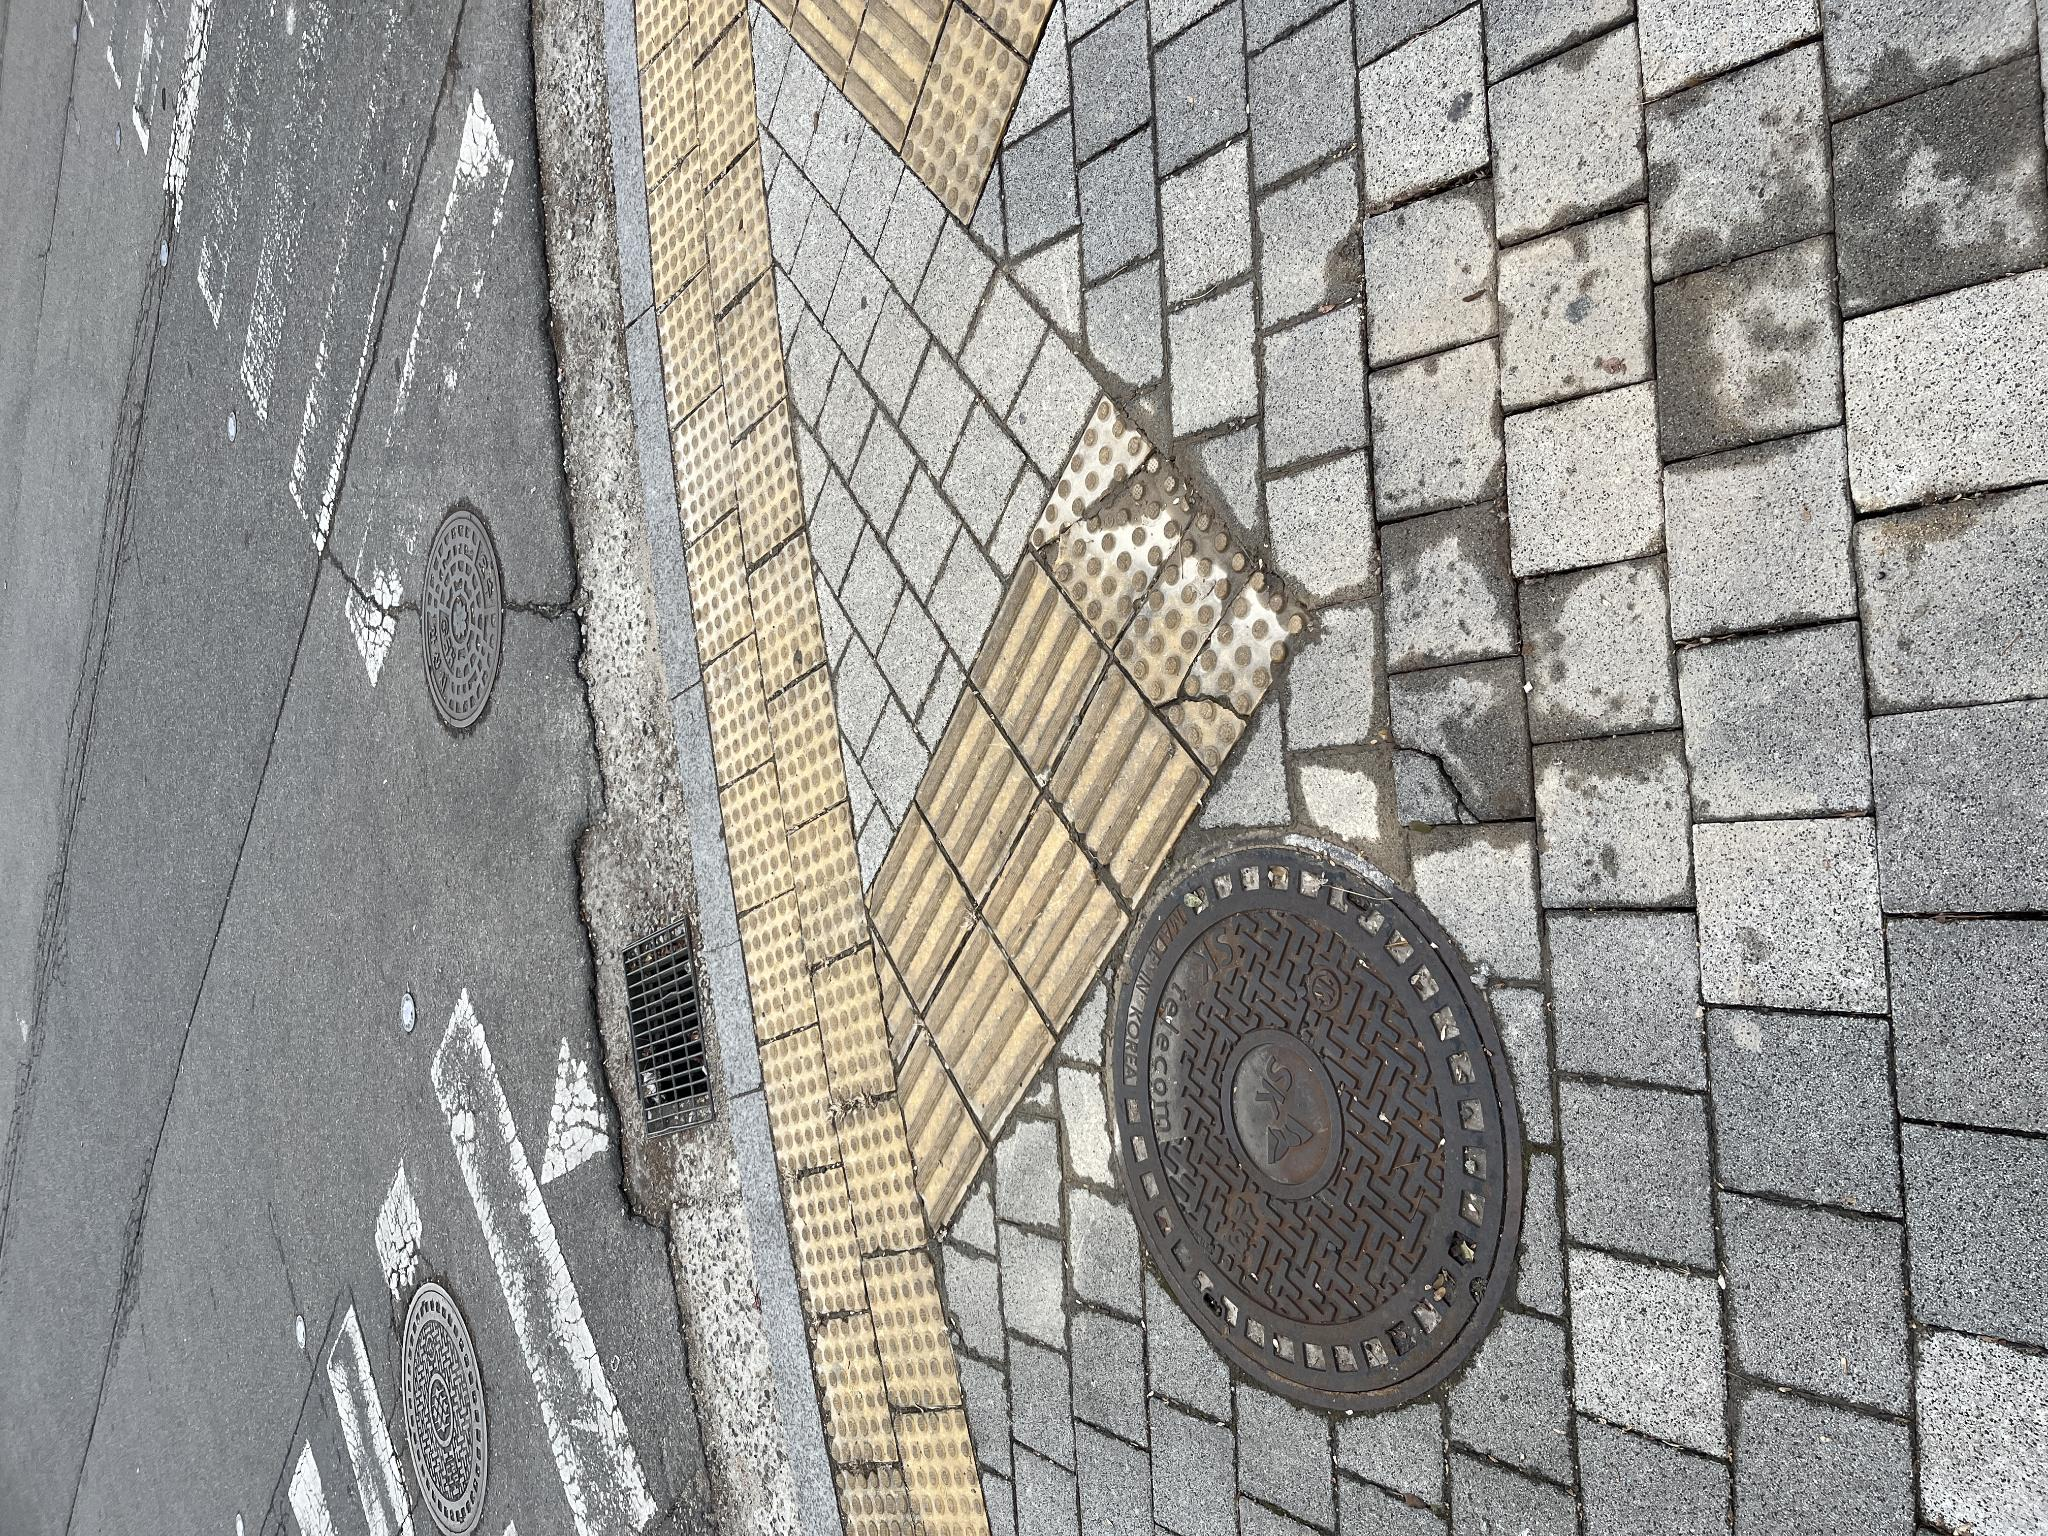Stop block broken: (763, 1113, 1037, 1310), (885, 1029, 1140, 1200)
Straight block normal: (627, 1047, 868, 1207), (503, 983, 737, 1126), (751, 968, 984, 1104), (393, 925, 616, 1055), (634, 916, 848, 1036)
